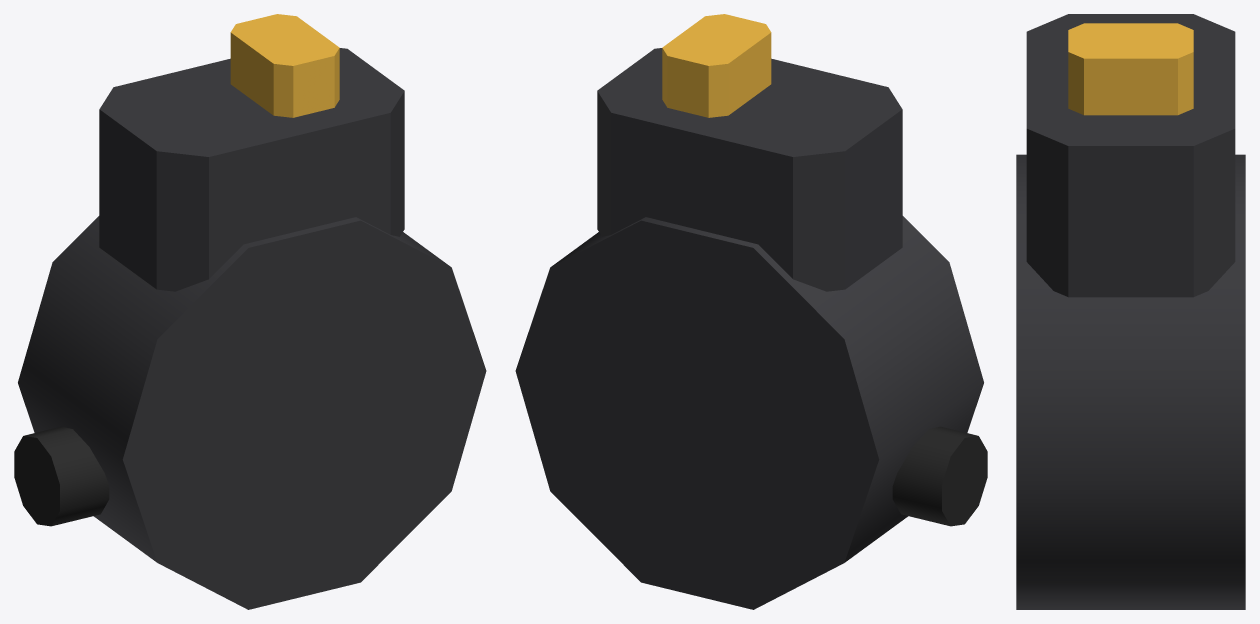
The model's file is throttle_lod1.glb.
3 views of the same model, side by side, from view 1: azimuth 30°, elevation 25°; view 2: azimuth 150°, elevation 25°; view 3: azimuth 270°, elevation 25° (orthographic). The views are drawn at different scales.
Visible parts, largest first — view 1: throttle_lod1; view 2: throttle_lod1; view 3: throttle_lod1.
Boxes of the visible parts, left/top/right/bottom form: throttle_lod1: left=14, top=14, right=486, bottom=609; throttle_lod1: left=515, top=14, right=987, bottom=609; throttle_lod1: left=1016, top=14, right=1245, bottom=609.
Size of the model in its own units: 0.048 by 0.0589 by 0.022.
